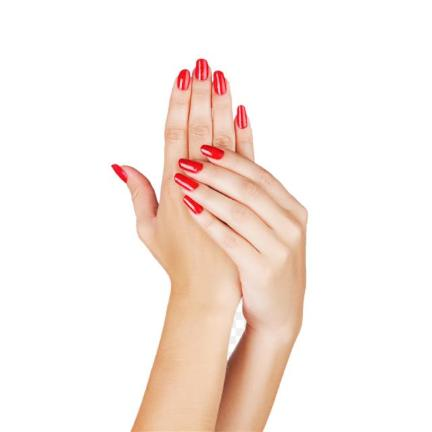Nail: (174, 173, 199, 192), (178, 158, 204, 174), (200, 144, 225, 160), (183, 195, 204, 214), (110, 163, 128, 184), (213, 70, 226, 95), (177, 69, 191, 91), (195, 58, 208, 81), (236, 104, 247, 129)
